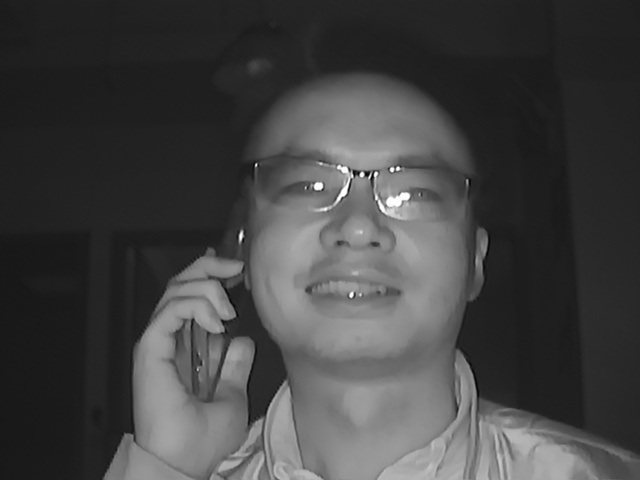hand: (136, 257, 263, 451)
